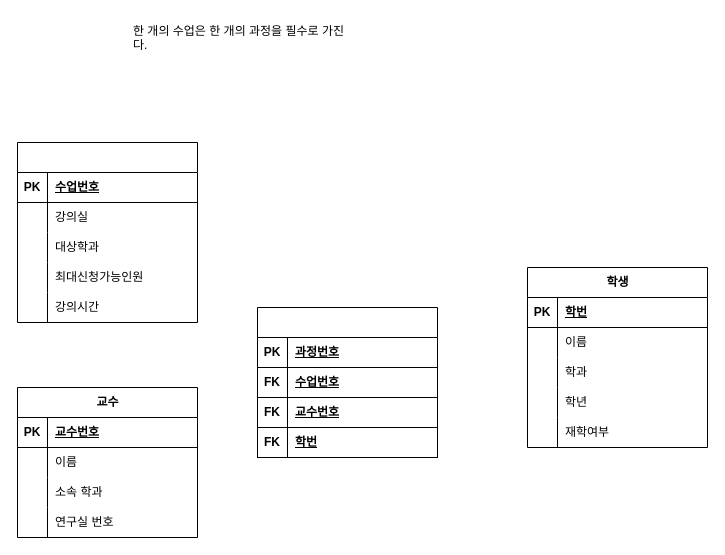
This 725x555 diagram has some shape labels left out. Each missing label, with the box of its shape:
과정: (256, 306, 438, 458)
수업: (16, 142, 198, 322)
